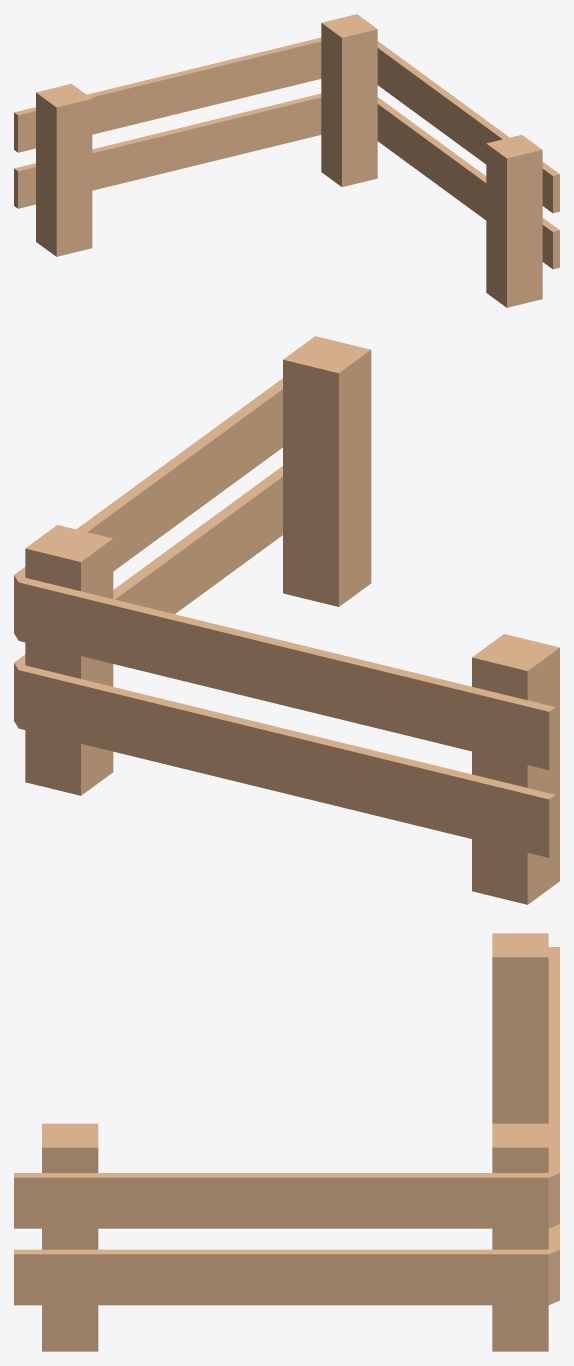
The model's file is fenceCorner.glb.
3 renders of one model, top to bottom at view 1: azimuth 30°, elevation 25°; view 2: azimuth 150°, elevation 25°; view 3: azimuth 270°, elevation 25°, orthographic. The views are drawn at different scales.
Parts seen in each view (by area): view 1: fenceCorner(Clone); view 2: fenceCorner(Clone); view 3: fenceCorner(Clone).
Part boxes in pixels (<box>): fenceCorner(Clone): <box>14,14,559,307</box>; fenceCorner(Clone): <box>14,336,559,904</box>; fenceCorner(Clone): <box>14,933,559,1351</box>.
Size of the model in its own units: 0.97 by 0.4 by 0.97.
